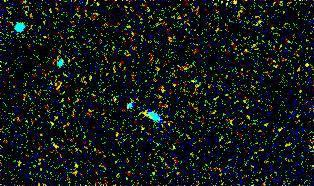star: (294, 49, 314, 79)
